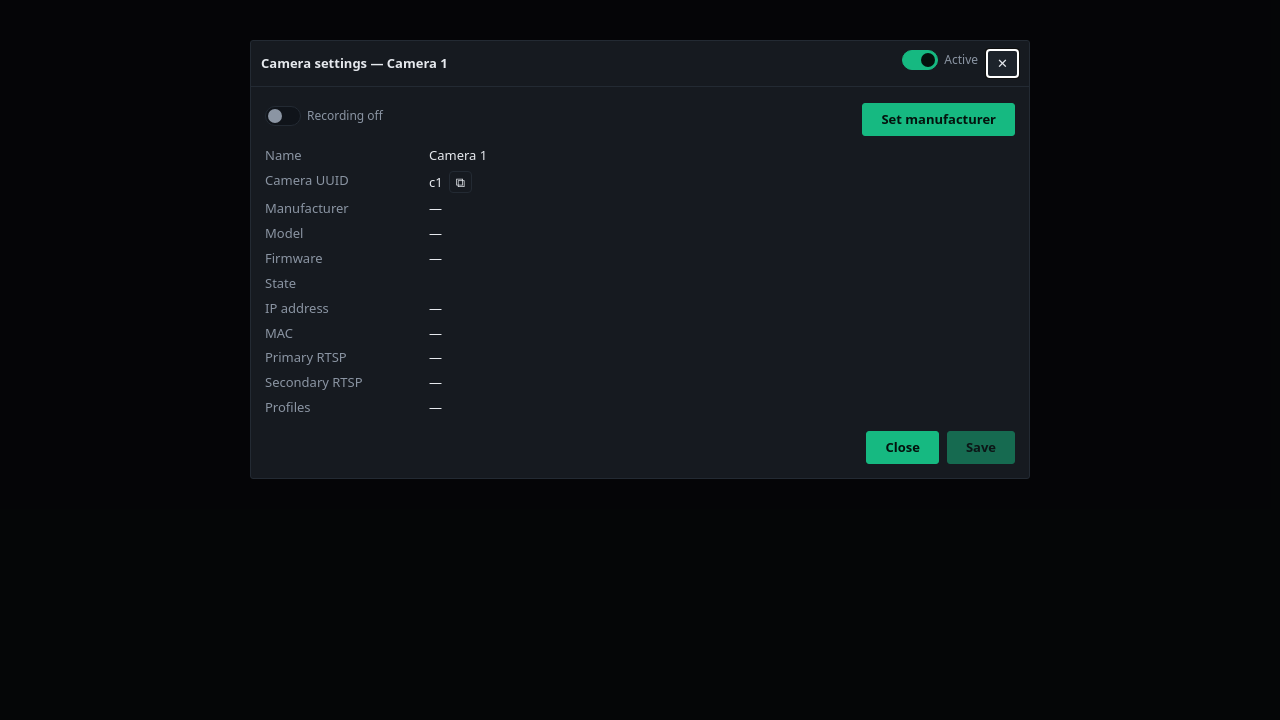
Test case: CameraSettingsModal: a single General tab (spec 2026-10-19) › linha 1: gravação e Set manufacturer; a linha 2 vem depois do botão
Expected: the text "Recording off" is shown, [307, 107, 383, 124]
What coordinates should you click on to do the following:
click the checkbox with class "nx-switch" showing "Recording off"
I would click on:
 (283, 116)
Its box is [265, 106, 301, 126].
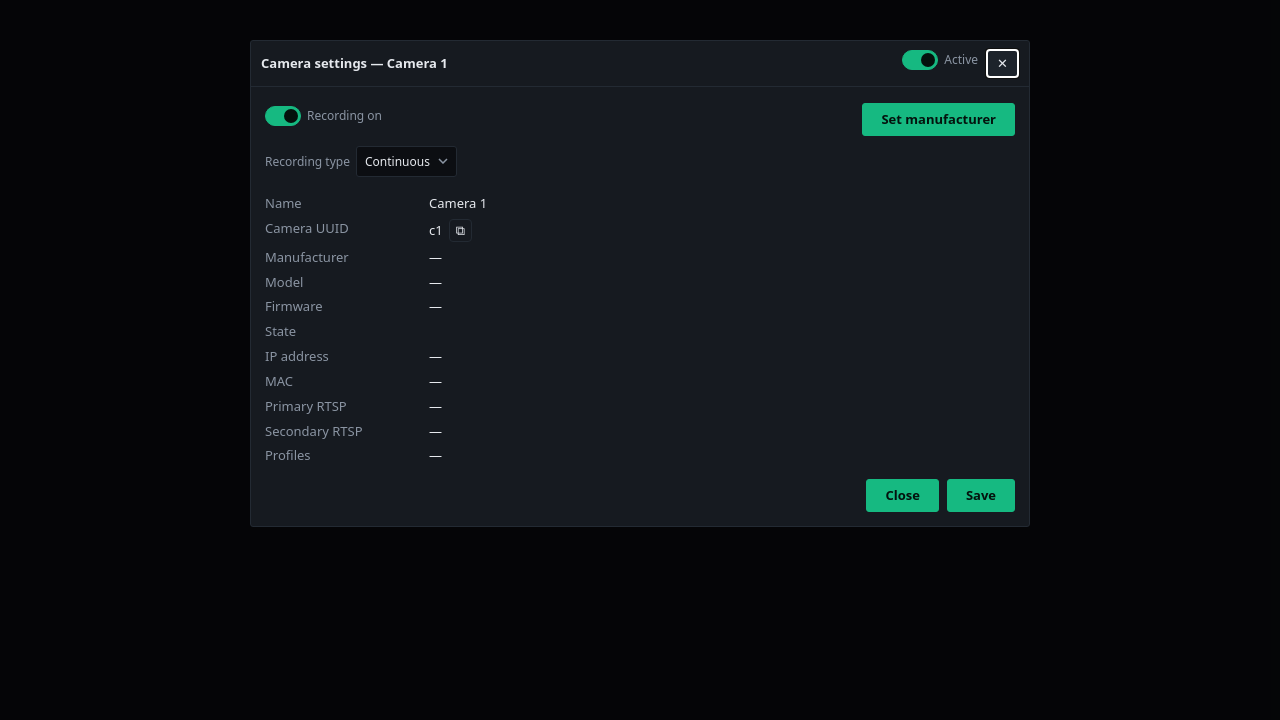
Result: the element with class "nx-linha-opcoes" is shown at [265, 146, 457, 177]
